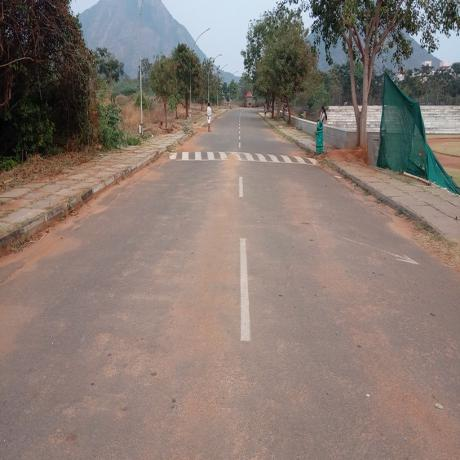Speed Bump: (165, 147, 316, 168)
